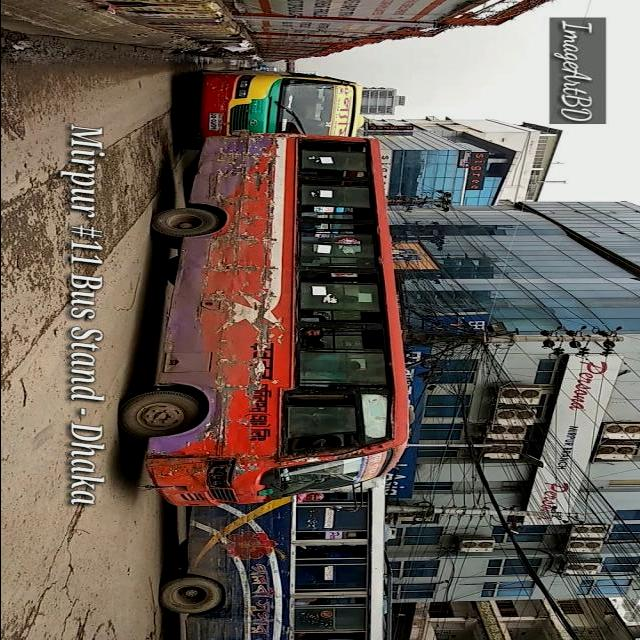bus: (118, 133, 416, 508)
